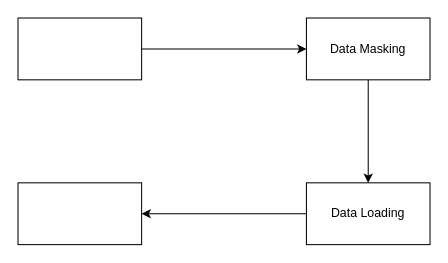
Image size: 448x263. Some labels were removed from this diagram. The centre of each missing label's shape, as x and y in pixels:
Data Extraction: pixel 79 48
Orchestration: pixel 79 213
